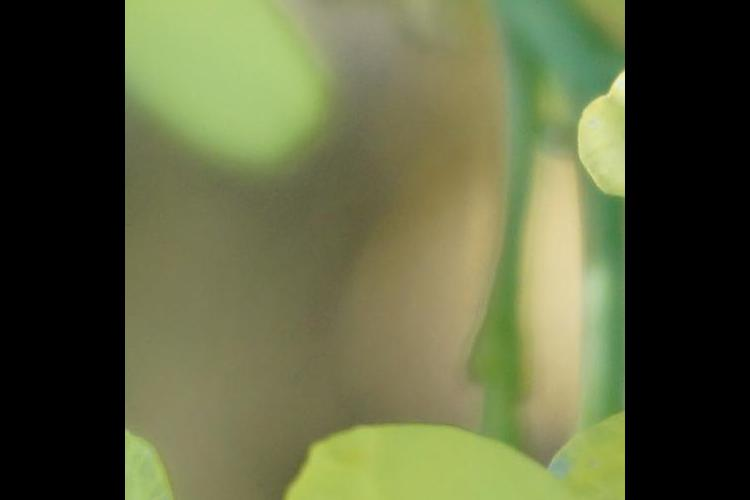yellow: (276, 420, 626, 500)
